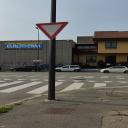preferencia: (35, 20, 68, 41)
